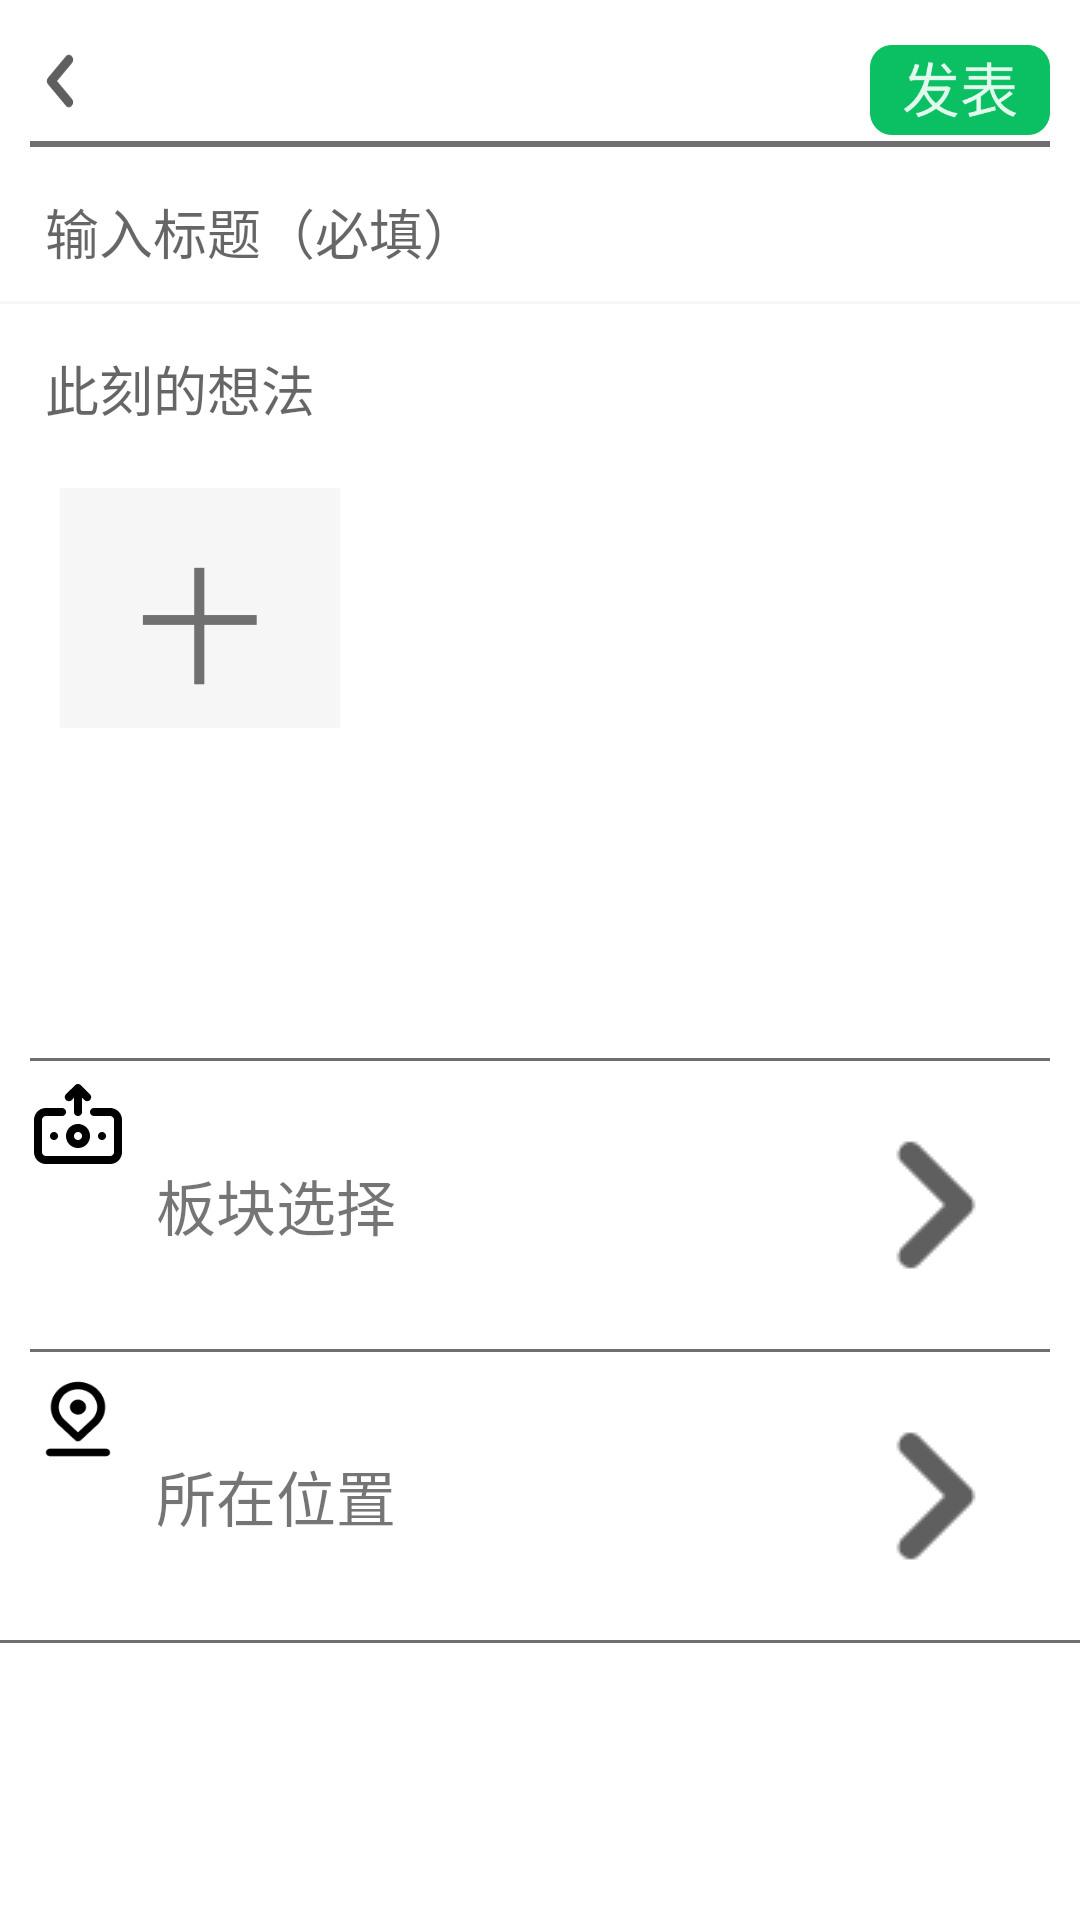

Where to tap for icons on this 1080*1920 app screen, as point (x, y):
location: point (78, 1419)
right arrow: point (936, 1205), point (936, 1496)
添加图片: point (200, 608)
